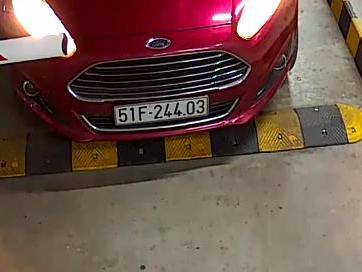car: (115, 95, 209, 127)
